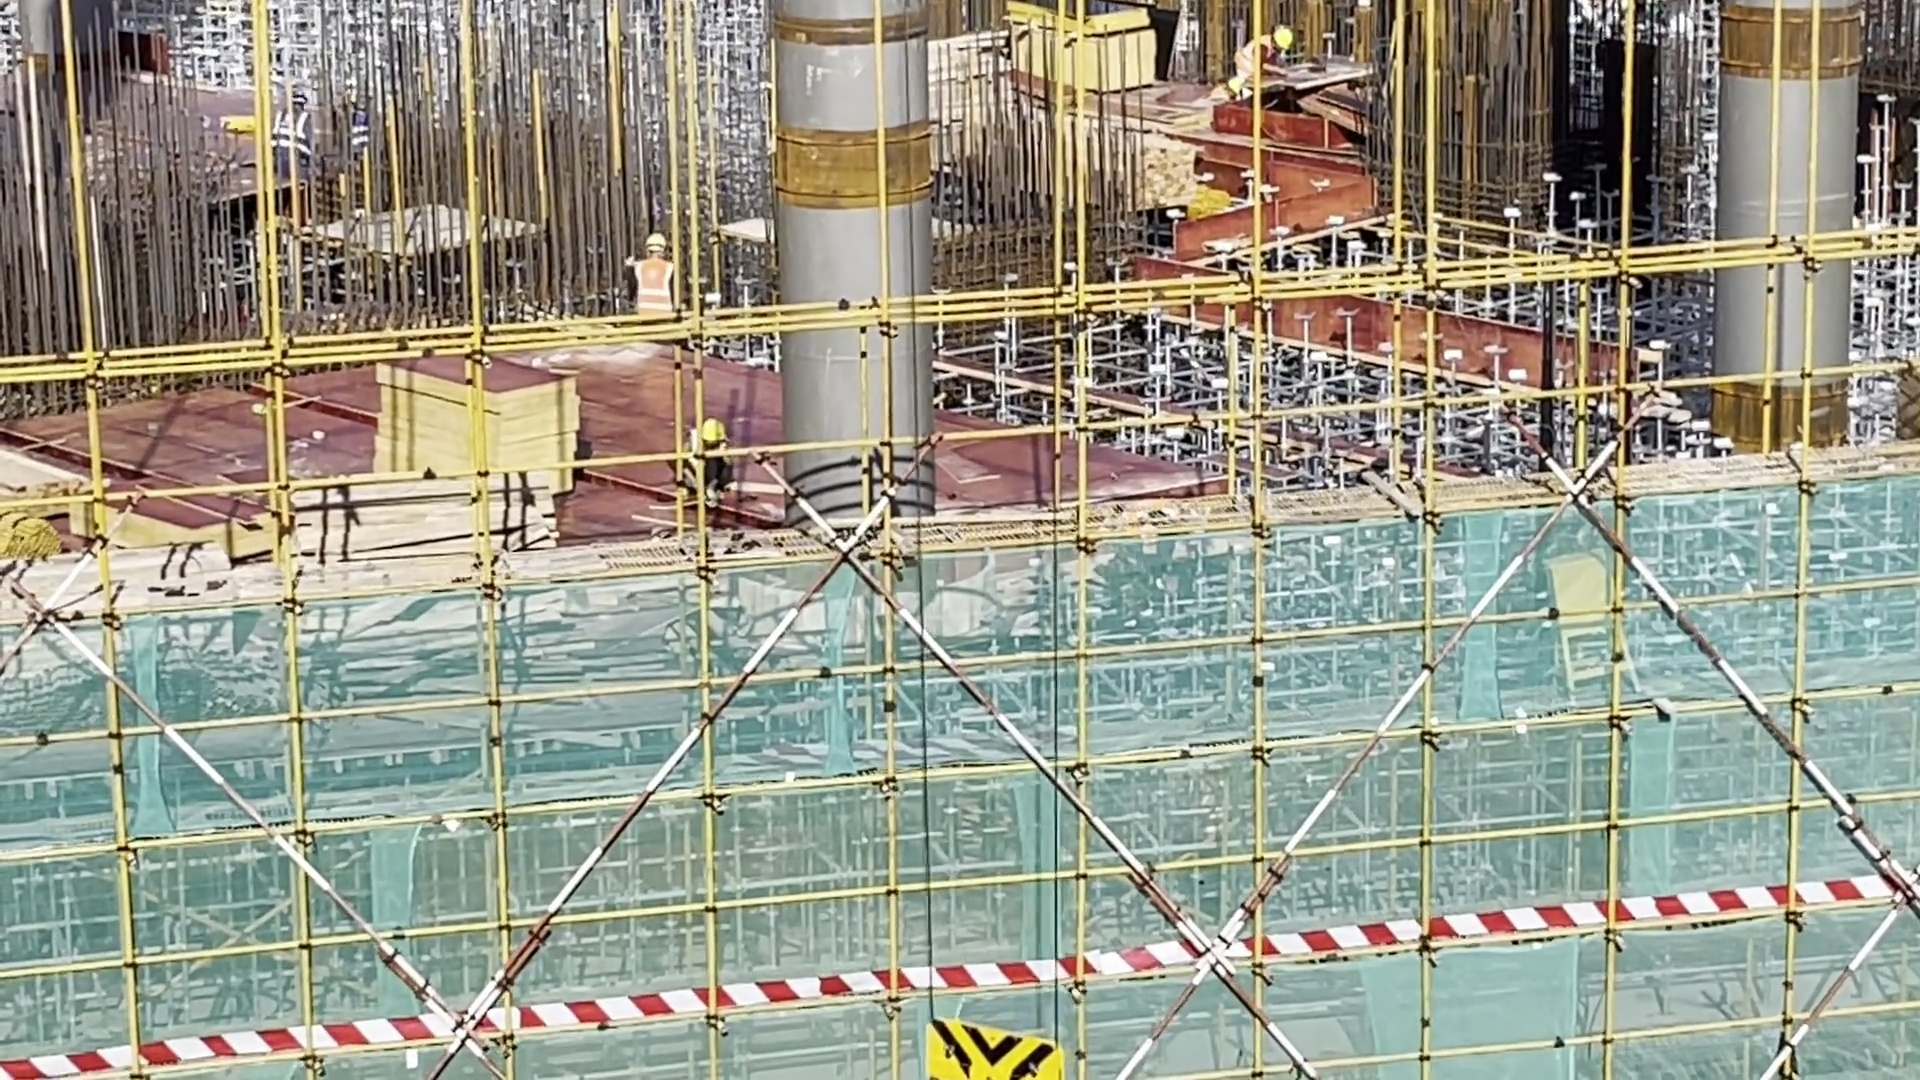board: (370, 354, 597, 497)
helmet: (696, 417, 726, 441), (1271, 27, 1295, 52), (644, 234, 668, 247)
hook: (923, 1015, 1062, 1080)
person: (681, 419, 738, 501), (628, 233, 681, 320), (1236, 19, 1296, 81)
vest: (634, 263, 674, 317), (1234, 36, 1275, 85)
